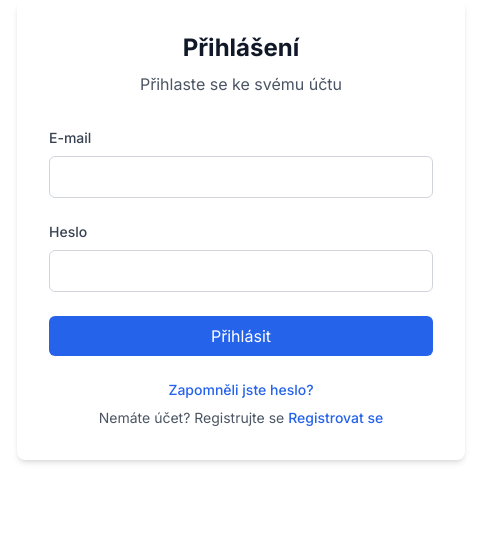
Scenario: LoginForm › handles login error
# Fill form
Step 1. Type "test@example.com" into the field labelled "E-mail" → (241, 177), box [49, 156, 433, 198]
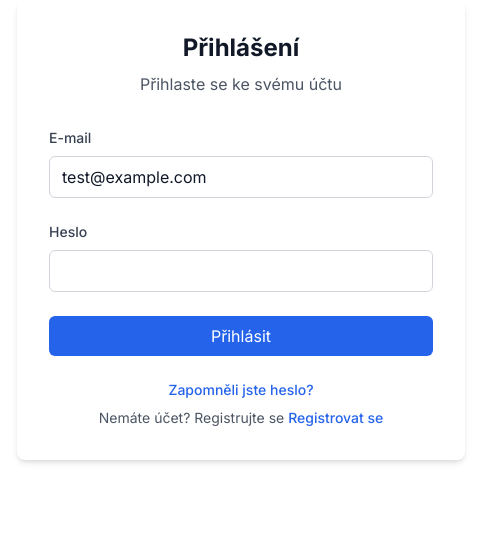
Step 2. Type "wrongpassword" into the password field labelled "Heslo" → (241, 271), box [49, 250, 433, 292]
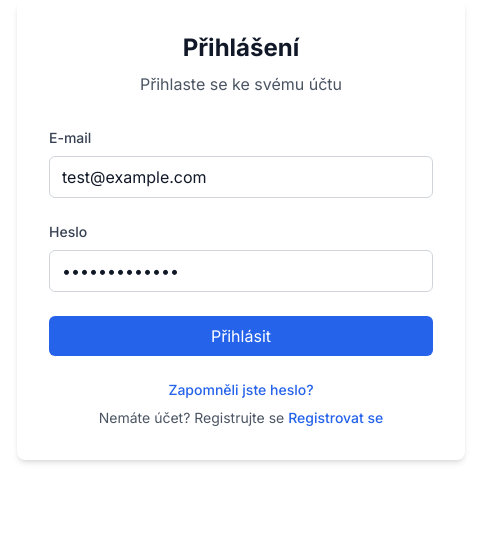
# Submit form
Step 3. Click the button "Přihlásit" → (241, 336), box [49, 316, 433, 356]
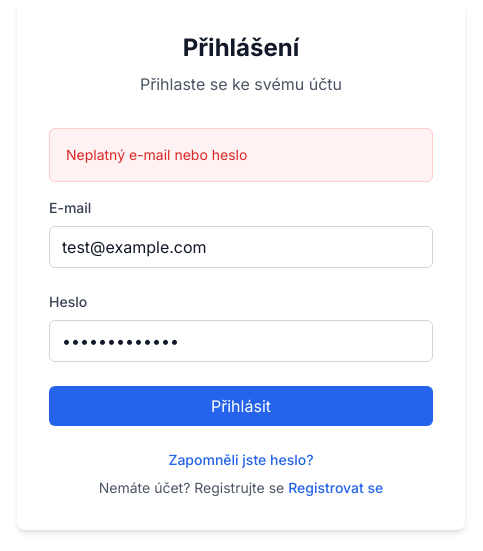
Result: the text "Neplatný e-mail nebo heslo" is shown at [66, 146, 247, 163]
